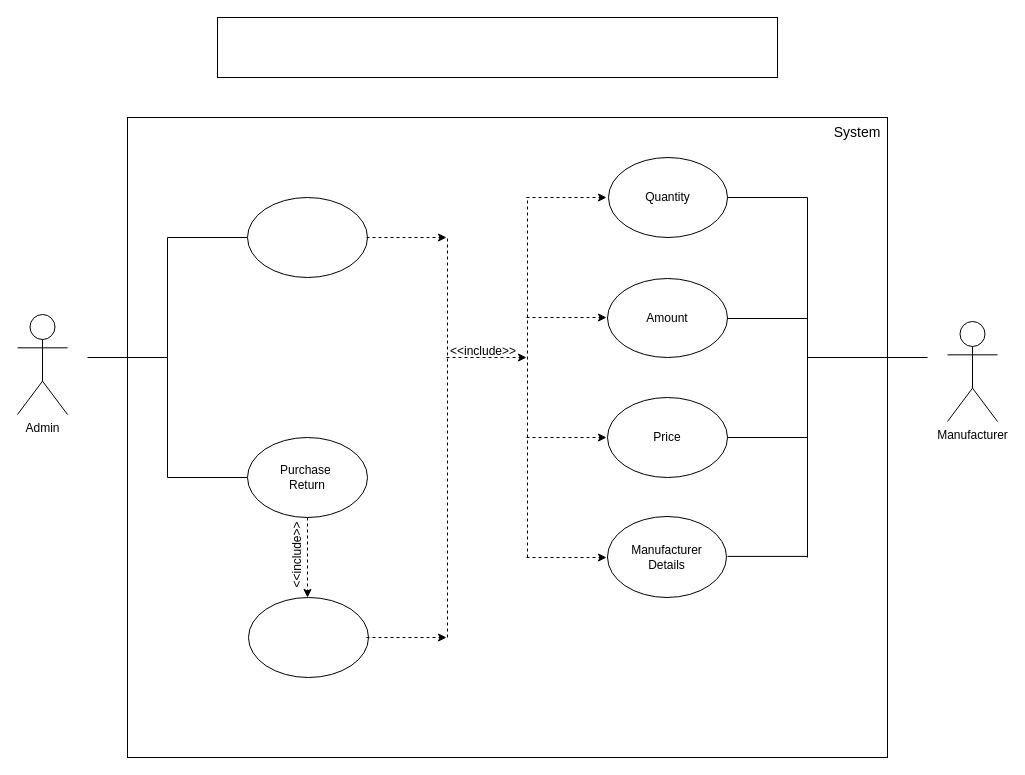
This 1025x775 diagram has some shape labels left out. The shapes that lost their labels are listed below. From the top down, each one's box as (x1, y1, x2, y2) in pixels, then its label:
(216, 16, 778, 78): Purchase Use-Case Diagram
(246, 196, 368, 278): Purchase
(248, 596, 368, 678): Reason
